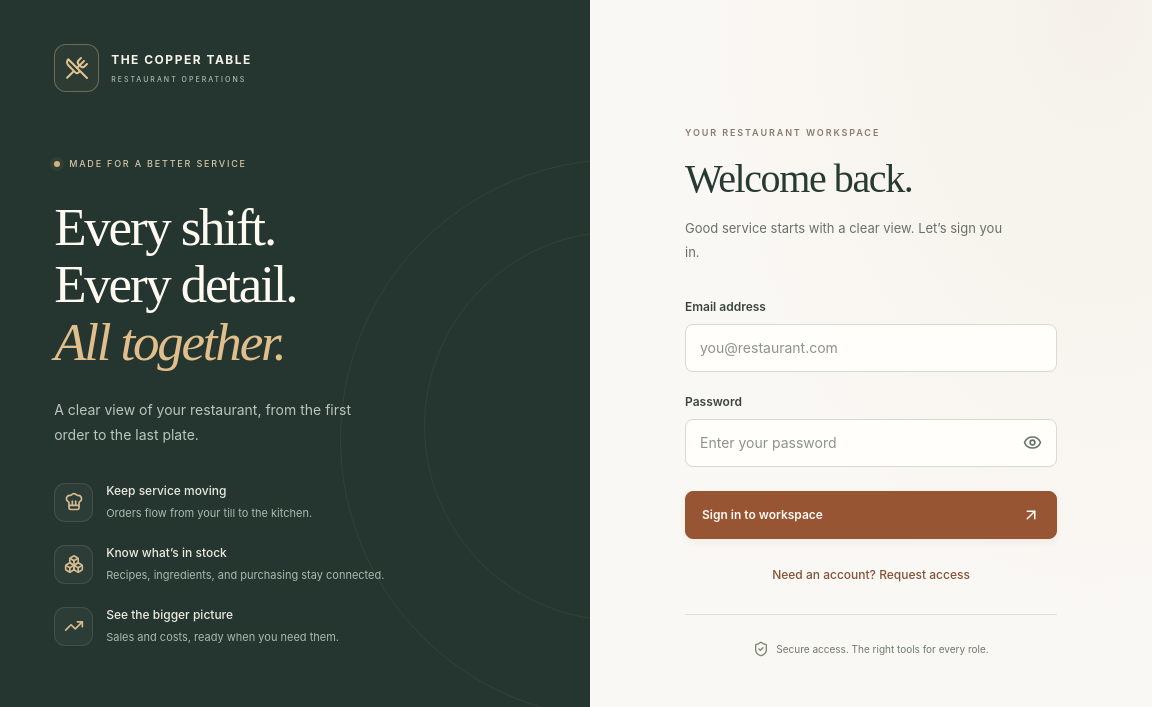
it: authenticated restaurant workspace › shows a server sign-in error without inventing a logged-in identity
This screenshot has width=1152, height=707.
expect the heading "Welcome back." is shown: met, box [685,156,912,201]
Type "owner@example.test" into the field labelled "Email address". click: (871, 348)
box: [685,324,1057,372]
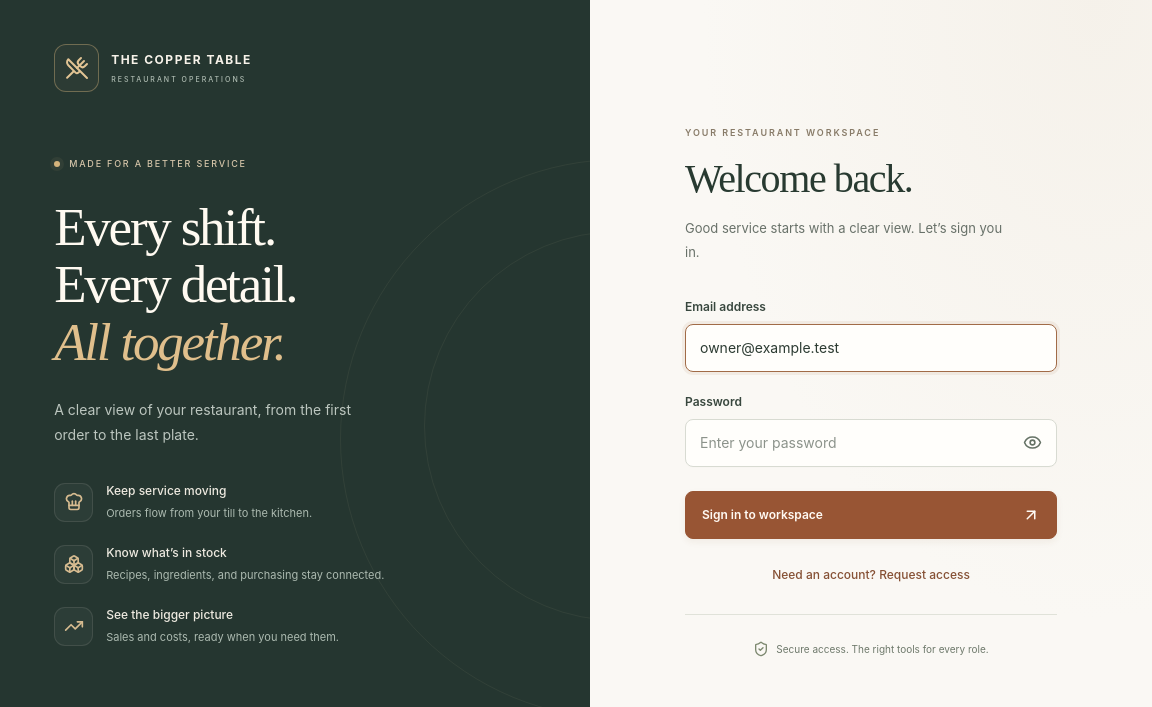
Type "wrong-password" into the password field labelled "Password". click: (871, 443)
box: [685,419,1057,467]
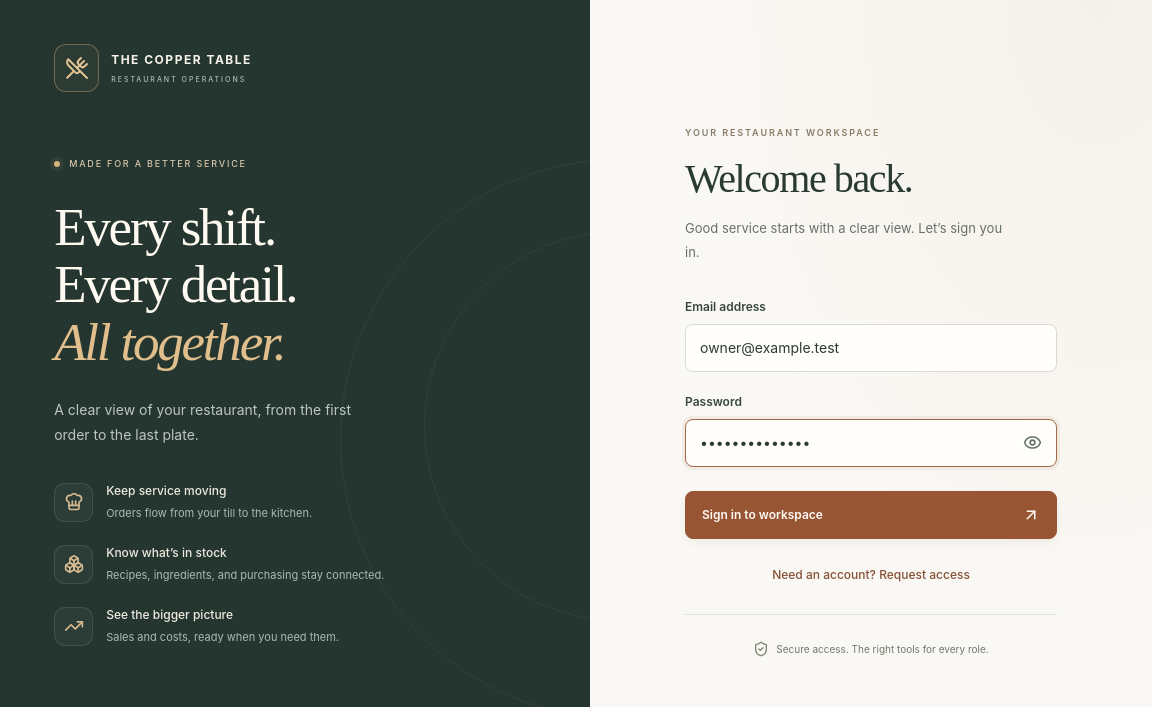
Click the button "Sign in to workspace". click: (762, 514)
box: [685,491,1057,539]
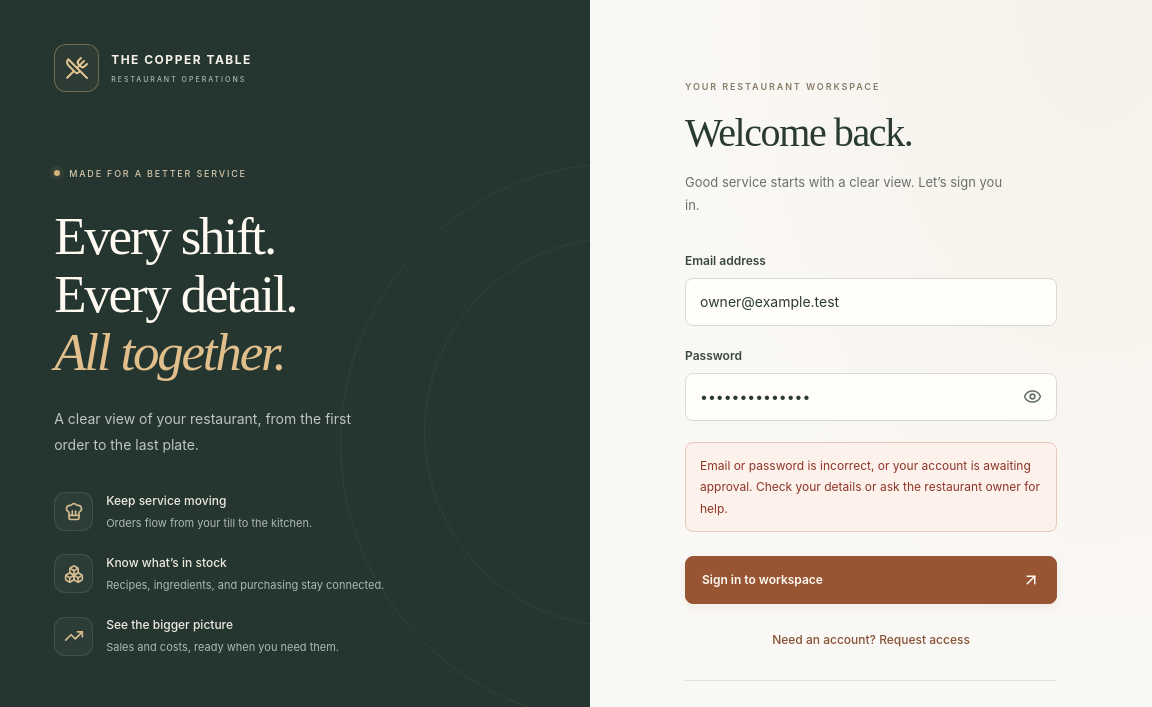
expect the message shows "Email or password is incorrect": met, box [700,458,1040,516]
